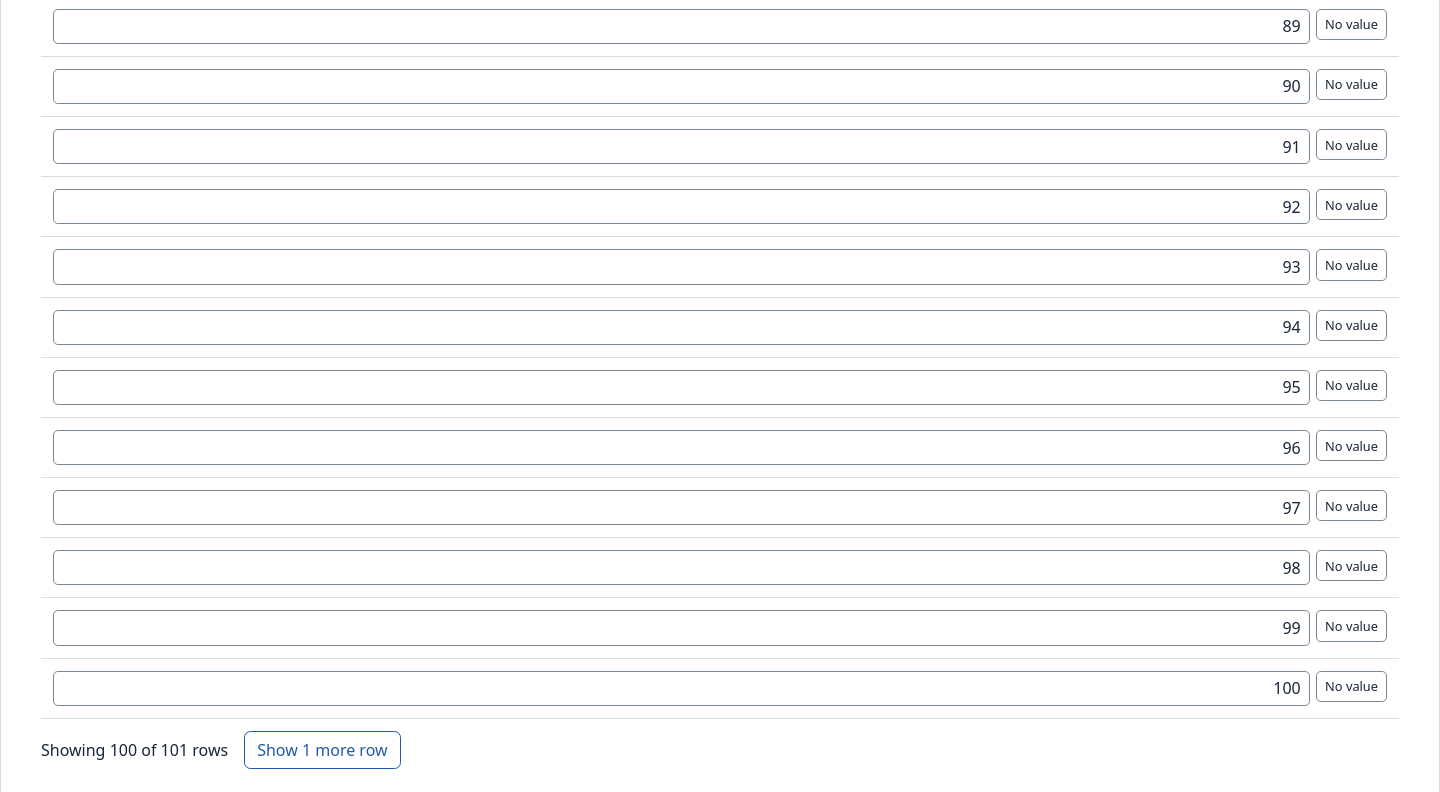
it: table rendering › expands each view independently and reads edits to visible and unrevealed rows
Earlier steps of the test are not shown.
(page scrolled)
Step 1. Click the button "Show 1 more row" → {"x": 322, "y": 750}, box [244, 731, 401, 769]
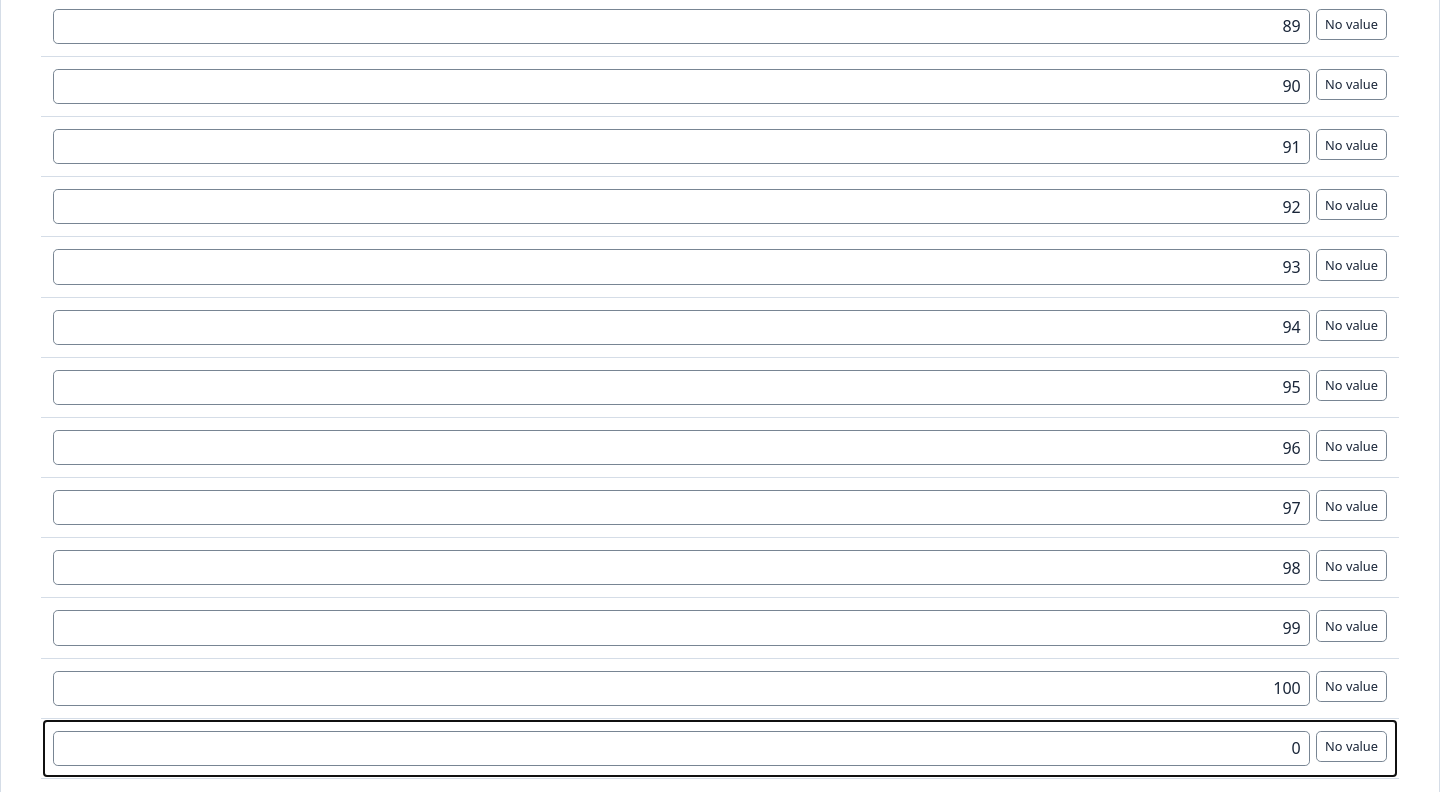
Check: the field named "Value, row row-100" holds "0", box [53, 731, 1310, 766]
